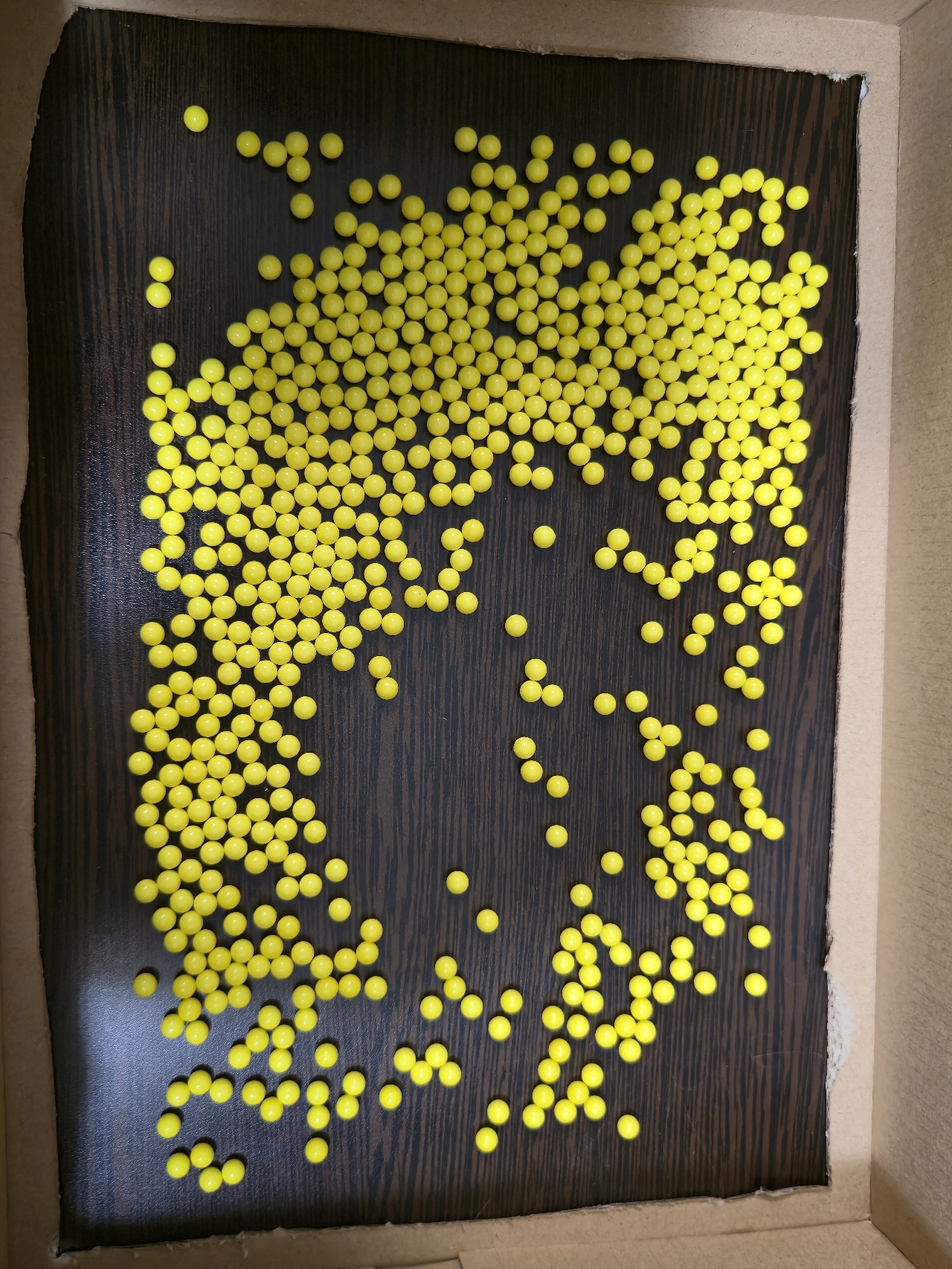yellow_bead: (750, 814, 779, 835), (153, 376, 167, 390), (162, 572, 176, 585), (166, 516, 179, 530), (146, 501, 160, 514), (222, 497, 236, 510), (202, 467, 215, 481), (156, 349, 170, 362), (215, 1085, 228, 1098), (220, 736, 233, 749), (199, 552, 212, 565), (206, 528, 219, 541), (199, 492, 212, 505), (192, 441, 205, 454), (206, 364, 219, 377), (155, 263, 168, 276), (444, 1067, 456, 1081), (399, 1053, 411, 1067), (494, 1021, 506, 1035), (425, 1001, 437, 1015), (166, 541, 180, 553), (178, 417, 190, 431), (348, 1077, 360, 1090), (431, 1049, 443, 1062), (277, 1030, 289, 1043), (263, 1011, 275, 1024), (370, 982, 382, 995), (259, 910, 271, 923), (193, 804, 205, 817), (252, 803, 264, 816), (275, 794, 288, 806), (248, 768, 261, 780), (258, 608, 271, 620), (218, 601, 231, 613), (296, 558, 309, 570), (251, 534, 264, 546), (232, 519, 245, 531), (258, 510, 271, 522), (245, 489, 258, 501), (226, 471, 239, 483), (177, 471, 190, 483), (240, 452, 253, 464), (231, 430, 243, 443), (155, 427, 167, 440), (623, 1120, 634, 1134), (466, 1000, 477, 1014), (283, 1088, 295, 1100), (312, 1087, 324, 1099), (624, 1045, 636, 1057), (750, 979, 762, 991), (316, 960, 328, 972), (297, 947, 309, 959), (605, 929, 617, 941), (158, 913, 170, 925), (736, 899, 748, 911), (282, 883, 294, 895), (305, 879, 317, 891), (205, 875, 217, 887), (732, 874, 744, 886), (712, 858, 724, 870), (164, 851, 176, 863), (271, 845, 283, 857), (234, 819, 246, 831), (272, 770, 284, 782), (242, 745, 254, 757), (265, 725, 277, 737), (237, 719, 249, 731), (303, 623, 315, 635), (310, 468, 322, 480), (164, 451, 176, 463), (216, 449, 228, 461), (312, 440, 324, 452), (270, 440, 282, 452), (208, 421, 220, 433), (276, 408, 288, 420), (233, 406, 245, 418), (193, 384, 205, 396), (235, 371, 247, 383), (764, 205, 776, 217), (791, 192, 803, 204), (725, 179, 737, 191), (747, 174, 759, 186), (493, 1105, 504, 1118), (587, 1069, 598, 1082), (416, 1067, 427, 1080), (573, 1020, 584, 1033), (289, 858, 300, 871), (250, 856, 263, 867), (206, 848, 219, 859), (150, 830, 163, 841), (734, 506, 747, 517), (174, 495, 187, 506), (253, 423, 266, 434), (155, 288, 165, 302), (528, 1111, 539, 1123), (341, 1103, 353, 1114), (274, 1057, 286, 1068), (568, 988, 579, 1000), (658, 986, 669, 998), (634, 981, 646, 992), (700, 977, 711, 989), (558, 957, 569, 969), (615, 948, 626, 960), (677, 942, 688, 954), (754, 931, 766, 942), (709, 919, 720, 931), (482, 915, 493, 927), (334, 903, 345, 915), (715, 888, 726, 900), (692, 883, 704, 894), (452, 876, 463, 888), (331, 864, 342, 876), (230, 843, 242, 854), (734, 836, 746, 847), (209, 823, 221, 834), (170, 814, 181, 826), (298, 804, 309, 816), (204, 783, 216, 794), (228, 779, 239, 791), (303, 758, 315, 769), (299, 702, 311, 713), (345, 632, 357, 643), (328, 615, 340, 626), (730, 608, 741, 620), (336, 565, 348, 576), (300, 535, 312, 546), (791, 530, 802, 542), (277, 496, 289, 507), (776, 472, 788, 483), (356, 460, 367, 472), (764, 452, 776, 463), (434, 443, 446, 454), (458, 440, 469, 452), (357, 437, 368, 449), (708, 425, 719, 437), (744, 405, 755, 417), (759, 391, 771, 402), (698, 338, 709, 350), (805, 337, 817, 348), (252, 316, 264, 327), (767, 288, 779, 299), (743, 287, 755, 298), (785, 278, 797, 289), (794, 257, 805, 269), (601, 1030, 611, 1043), (588, 995, 598, 1008), (587, 919, 597, 932), (184, 864, 197, 874), (274, 690, 287, 700), (239, 588, 252, 598), (263, 586, 276, 596), (281, 473, 294, 483), (723, 231, 733, 244), (176, 620, 190, 629), (560, 1107, 571, 1118), (640, 1027, 651, 1038), (301, 1016, 312, 1027), (645, 957, 656, 968), (566, 934, 577, 945), (576, 890, 587, 901), (141, 884, 152, 895), (669, 846, 680, 857), (257, 827, 268, 838), (519, 742, 530, 753), (753, 734, 764, 745), (665, 730, 676, 741), (547, 690, 558, 701), (530, 664, 541, 675), (374, 661, 385, 672), (511, 620, 522, 631), (664, 583, 675, 594), (724, 576, 735, 587), (370, 568, 381, 579), (629, 556, 640, 567), (456, 554, 467, 565), (681, 544, 692, 555), (447, 533, 458, 544), (304, 512, 315, 523), (714, 507, 725, 518), (672, 506, 683, 517), (324, 491, 335, 502), (760, 489, 771, 500), (458, 489, 469, 500), (537, 472, 548, 483), (725, 466, 736, 477), (688, 465, 699, 476), (747, 464, 758, 475), (637, 464, 648, 475), (388, 455, 399, 466), (292, 452, 303, 463), (414, 451, 425, 462), (335, 445, 346, 456), (695, 443, 706, 454), (635, 442, 646, 453), (493, 436, 504, 447), (379, 433, 390, 444), (538, 425, 549, 436), (733, 424, 744, 435), (400, 423, 411, 434), (764, 412, 775, 423), (454, 406, 465, 417), (554, 405, 565, 416), (713, 385, 724, 396), (373, 382, 384, 393), (692, 380, 703, 391), (749, 371, 760, 382), (682, 355, 693, 366), (760, 353, 771, 364), (336, 344, 347, 355), (358, 338, 369, 349), (751, 332, 762, 343), (731, 326, 742, 337), (791, 322, 802, 333), (745, 310, 756, 321), (733, 264, 744, 275), (713, 257, 724, 268), (212, 997, 222, 1009), (298, 991, 308, 1003), (675, 966, 687, 976), (660, 883, 672, 893), (186, 831, 198, 841), (309, 826, 321, 836), (141, 809, 153, 819), (242, 653, 254, 663), (785, 591, 797, 601), (292, 581, 304, 591), (318, 550, 330, 560), (390, 545, 402, 555), (361, 518, 373, 528), (785, 492, 797, 502), (300, 489, 312, 499), (334, 469, 346, 479), (701, 405, 713, 415), (218, 387, 230, 397), (740, 351, 750, 363), (719, 344, 729, 356), (267, 335, 279, 345), (343, 318, 353, 330), (811, 271, 823, 281), (223, 668, 236, 677), (298, 649, 311, 658), (279, 625, 292, 634), (209, 623, 222, 632), (210, 582, 223, 591), (590, 1103, 600, 1114), (234, 1054, 245, 1064), (192, 1029, 203, 1039), (237, 945, 248, 955), (199, 935, 210, 945), (176, 895, 187, 905), (679, 866, 690, 876), (677, 820, 688, 830), (647, 810, 657, 821), (699, 797, 709, 808), (739, 773, 750, 783), (689, 757, 699, 768), (197, 743, 208, 753), (646, 723, 657, 733), (632, 696, 642, 707), (730, 672, 741, 682), (690, 639, 701, 649), (234, 626, 245, 636), (765, 604, 776, 614), (462, 597, 472, 608), (329, 592, 340, 602), (678, 565, 688, 576), (779, 563, 790, 573), (405, 563, 416, 573), (698, 557, 709, 567), (601, 553, 611, 564), (340, 542, 351, 552), (701, 535, 712, 545), (613, 534, 624, 544), (693, 508, 704, 518), (385, 499, 396, 509), (686, 487, 696, 498), (665, 483, 675, 494), (369, 480, 380, 490), (399, 476, 410, 486), (475, 475, 486, 485), (588, 468, 599, 478), (440, 466, 450, 477), (518, 446, 529, 456), (724, 444, 735, 454), (588, 431, 599, 441), (290, 428, 301, 438), (473, 423, 484, 433), (646, 422, 656, 433), (515, 417, 525, 428), (491, 408, 501, 419), (783, 407, 794, 417), (661, 406, 671, 417), (531, 401, 541, 412), (303, 393, 314, 403), (673, 387, 683, 398), (539, 362, 550, 372), (307, 347, 318, 357), (382, 334, 393, 344), (678, 332, 688, 343), (290, 329, 301, 339), (408, 327, 419, 337), (710, 320, 720, 331), (766, 314, 776, 325), (726, 304, 736, 315), (391, 288, 402, 298), (756, 266, 766, 277), (701, 239, 711, 250), (736, 214, 747, 224), (442, 962, 451, 974), (255, 961, 264, 973), (185, 917, 197, 926), (213, 761, 225, 770), (161, 713, 173, 722), (215, 699, 227, 708), (260, 666, 272, 675), (179, 648, 191, 657), (364, 614, 376, 623), (193, 603, 205, 612), (225, 548, 237, 557), (153, 475, 165, 484), (683, 408, 692, 420), (724, 405, 733, 417), (664, 283, 673, 295), (484, 1134, 492, 1147), (134, 757, 147, 765), (136, 715, 149, 723), (237, 690, 250, 698), (218, 645, 231, 653), (230, 918, 240, 928), (692, 906, 702, 916), (163, 876, 173, 886), (652, 863, 662, 873), (608, 858, 618, 868), (552, 831, 562, 841), (715, 826, 725, 836), (650, 745, 660, 755), (749, 683, 759, 693), (743, 651, 753, 661), (647, 627, 657, 637), (699, 619, 709, 629), (433, 595, 443, 605), (715, 485, 725, 495), (575, 449, 585, 459), (610, 438, 620, 448), (561, 428, 571, 438), (361, 414, 371, 424), (579, 411, 589, 421), (510, 395, 520, 405), (465, 371, 475, 381), (724, 367, 734, 377), (704, 361, 714, 371), (395, 354, 405, 364), (585, 971, 596, 980), (693, 847, 702, 858), (654, 832, 665, 841), (176, 791, 187, 800), (600, 698, 611, 707), (382, 683, 393, 692), (199, 682, 210, 691), (649, 568, 660, 577), (339, 512, 350, 521), (408, 498, 419, 507), (348, 489, 359, 498), (516, 469, 527, 478), (666, 431, 675, 442), (433, 419, 444, 428), (383, 405, 392, 416), (787, 385, 798, 394), (526, 379, 535, 390), (351, 365, 360, 376), (280, 358, 289, 369), (690, 314, 699, 325), (454, 301, 463, 312), (413, 301, 422, 312), (805, 292, 814, 303), (722, 282, 731, 293), (709, 193, 718, 204), (219, 804, 231, 812), (147, 786, 159, 794), (175, 677, 187, 685), (274, 651, 286, 659), (146, 628, 158, 636), (274, 542, 286, 550), (322, 527, 334, 535), (675, 797, 685, 806), (747, 793, 757, 802), (553, 781, 563, 790), (527, 766, 537, 775), (768, 629, 778, 638), (769, 582, 778, 592), (444, 574, 454, 583), (637, 402, 646, 412), (352, 393, 361, 403), (592, 391, 601, 401), (569, 388, 579, 397), (597, 352, 606, 362), (524, 346, 533, 356), (544, 281, 553, 291), (341, 954, 349, 965), (199, 899, 210, 907), (165, 769, 176, 777), (338, 654, 349, 662), (155, 650, 166, 658), (257, 635, 268, 643), (385, 523, 396, 531), (257, 469, 268, 477), (494, 380, 502, 391), (702, 162, 713, 170), (542, 1090, 549, 1102), (552, 1012, 559, 1024), (585, 948, 592, 960), (283, 745, 295, 752), (283, 672, 295, 679), (186, 584, 198, 591), (170, 935, 179, 944), (547, 384, 556, 393), (584, 370, 593, 379), (370, 277, 379, 286), (347, 274, 356, 283), (625, 273, 634, 282), (329, 254, 338, 263), (667, 184, 676, 193), (545, 1067, 555, 1075), (237, 993, 245, 1003), (279, 961, 287, 971), (368, 924, 376, 934), (224, 891, 234, 899), (678, 775, 686, 785), (174, 743, 184, 751), (153, 734, 163, 742), (205, 719, 213, 729), (704, 710, 712, 720), (376, 592, 386, 600), (478, 452, 488, 460), (406, 401, 414, 411), (398, 378, 406, 388), (606, 373, 614, 383), (301, 370, 309, 380), (667, 366, 675, 376), (640, 339, 648, 349), (458, 325, 466, 335), (276, 310, 286, 318), (685, 292, 693, 302), (324, 276, 332, 286), (386, 237, 396, 245), (408, 230, 418, 238), (690, 199, 698, 209), (281, 523, 294, 529), (321, 643, 332, 650), (539, 535, 550, 542), (285, 385, 292, 396), (237, 329, 244, 340), (672, 309, 679, 320), (306, 309, 313, 320), (353, 249, 360, 260), (511, 995, 517, 1007), (141, 980, 149, 989), (205, 977, 213, 986), (469, 524, 478, 532), (437, 489, 446, 497), (314, 417, 322, 426), (429, 396, 437, 405), (449, 385, 457, 394), (510, 364, 518, 373), (646, 362, 654, 371), (654, 323, 662, 332), (433, 315, 442, 323), (391, 312, 399, 321), (565, 293, 573, 302), (434, 292, 442, 301), (609, 286, 617, 295), (453, 278, 462, 286), (413, 277, 421, 286), (434, 268, 442, 277), (266, 263, 274, 272), (411, 254, 419, 263), (659, 206, 668, 214), (464, 135, 472, 144), (363, 948, 373, 955), (190, 766, 200, 773), (526, 690, 536, 697), (283, 601, 293, 608), (411, 591, 421, 598), (364, 542, 374, 549), (255, 399, 265, 406), (619, 392, 626, 402), (652, 300, 659, 310), (704, 274, 711, 284), (684, 267, 691, 277), (248, 567, 259, 573), (666, 252, 672, 263), (234, 970, 242, 978), (267, 941, 275, 949), (286, 921, 294, 929), (250, 353, 258, 361), (525, 295, 533, 303), (480, 289, 488, 297), (535, 165, 543, 173), (709, 769, 716, 778), (307, 600, 316, 607), (373, 361, 382, 368), (476, 312, 483, 321), (708, 299, 715, 308), (631, 295, 638, 304), (454, 254, 461, 263), (683, 245, 690, 254), (640, 216, 649, 223), (559, 1047, 565, 1057), (454, 983, 460, 993), (171, 393, 181, 399), (634, 318, 640, 328), (527, 318, 533, 328), (495, 255, 501, 265), (640, 1006, 647, 1014), (192, 959, 200, 966), (338, 414, 346, 421), (629, 250, 637, 257), (300, 202, 307, 210), (457, 194, 464, 202), (582, 150, 590, 157), (329, 142, 336, 150), (624, 1020, 629, 1031), (754, 565, 765, 570), (323, 1053, 332, 1059), (318, 577, 327, 583), (654, 384, 660, 393), (625, 353, 631, 362), (504, 342, 510, 351), (547, 333, 553, 342), (615, 332, 621, 341), (507, 305, 513, 314), (550, 259, 556, 268), (516, 250, 522, 259), (550, 197, 556, 206), (737, 528, 747, 533), (356, 296, 361, 306), (528, 270, 533, 280), (621, 415, 628, 422), (592, 311, 599, 318), (536, 218, 543, 225), (517, 192, 524, 199), (297, 166, 304, 173), (280, 829, 292, 833), (567, 343, 573, 351), (649, 267, 655, 275), (767, 233, 773, 241), (556, 232, 562, 240), (365, 231, 373, 237), (594, 215, 600, 223), (274, 150, 280, 158), (446, 362, 451, 371), (333, 301, 338, 310), (391, 260, 396, 269), (691, 222, 696, 231), (346, 219, 351, 228), (202, 1155, 208, 1162), (268, 1110, 274, 1117), (347, 982, 353, 989), (280, 569, 286, 576), (332, 391, 338, 398), (565, 365, 571, 372), (547, 309, 553, 316), (505, 173, 511, 180), (619, 147, 625, 154), (295, 141, 302, 147), (254, 1037, 259, 1045), (155, 558, 160, 566), (616, 309, 621, 317), (571, 250, 576, 258), (620, 177, 625, 185), (483, 170, 488, 178), (643, 156, 648, 164), (422, 375, 428, 381), (370, 318, 376, 324), (517, 227, 523, 233), (481, 199, 487, 205), (506, 279, 511, 286), (475, 244, 480, 251), (495, 233, 500, 240), (390, 182, 395, 189), (149, 402, 157, 406), (328, 369, 333, 375), (475, 222, 480, 228), (243, 139, 249, 144), (391, 624, 398, 628), (480, 395, 484, 402), (422, 350, 426, 357), (327, 327, 331, 334), (599, 181, 603, 188), (205, 1175, 214, 1178), (190, 112, 199, 115), (442, 341, 447, 346), (167, 1022, 173, 1026), (666, 347, 670, 353), (483, 336, 487, 342), (433, 219, 437, 225), (748, 590, 755, 593), (538, 241, 541, 248), (234, 1170, 238, 1175), (579, 1093, 583, 1098), (325, 986, 329, 991), (356, 588, 361, 592), (466, 351, 470, 356), (305, 288, 309, 293), (414, 204, 418, 209), (567, 184, 572, 188), (490, 143, 495, 147), (750, 442, 756, 445), (591, 335, 594, 341), (591, 289, 594, 295), (672, 231, 675, 237), (543, 144, 547, 148), (315, 1150, 320, 1153), (167, 1122, 172, 1125), (489, 360, 492, 365), (651, 240, 654, 245), (454, 232, 457, 237), (321, 1115, 324, 1119), (390, 1095, 393, 1099), (173, 1090, 177, 1093), (185, 983, 187, 989), (793, 428, 795, 434), (600, 270, 604, 273), (361, 188, 364, 192), (737, 487, 739, 492), (778, 432, 783, 434), (194, 124, 199, 126), (265, 379, 268, 382), (570, 322, 573, 325), (220, 957, 222, 961), (778, 511, 782, 513), (799, 425, 803, 427), (253, 1093, 254, 1099), (202, 1082, 205, 1084), (784, 434, 786, 437), (504, 211, 507, 213), (774, 372, 779, 373), (790, 354, 794, 355), (571, 215, 573, 217), (200, 115, 202, 117), (313, 1114, 316, 1115), (350, 588, 351, 591), (775, 515, 776, 518), (742, 484, 745, 485), (794, 447, 797, 448), (785, 359, 786, 362), (176, 1163, 178, 1164), (739, 386, 741, 387), (303, 264, 304, 266), (434, 247, 436, 248), (767, 191, 768, 193), (320, 1114, 321, 1115), (266, 709, 267, 710), (256, 709, 257, 710), (753, 569, 754, 570), (736, 532, 737, 533), (786, 514, 787, 515), (152, 480, 153, 481), (170, 463, 171, 464), (790, 453, 791, 454), (801, 450, 802, 451), (799, 448, 800, 449), (156, 415, 157, 416), (159, 408, 160, 409), (158, 407, 159, 408), (217, 391, 218, 392), (780, 375, 781, 376), (786, 357, 787, 358), (794, 355, 795, 356), (788, 355, 789, 356), (240, 340, 241, 341), (784, 306, 785, 307), (477, 272, 478, 273), (478, 270, 479, 271), (768, 231, 769, 232), (190, 1009, 190, 1012), (398, 623, 399, 623), (387, 623, 388, 623), (747, 594, 748, 594), (756, 591, 756, 592), (315, 577, 315, 578), (776, 514, 776, 515), (756, 446, 757, 446), (746, 446, 747, 446), (776, 434, 777, 434), (805, 428, 805, 429), (158, 405, 158, 406), (181, 399, 182, 399), (744, 388, 744, 388), (774, 345, 774, 346), (773, 344, 774, 344), (773, 338, 774, 338), (778, 335, 779, 335), (789, 301, 791, 301), (190, 115, 190, 116)
